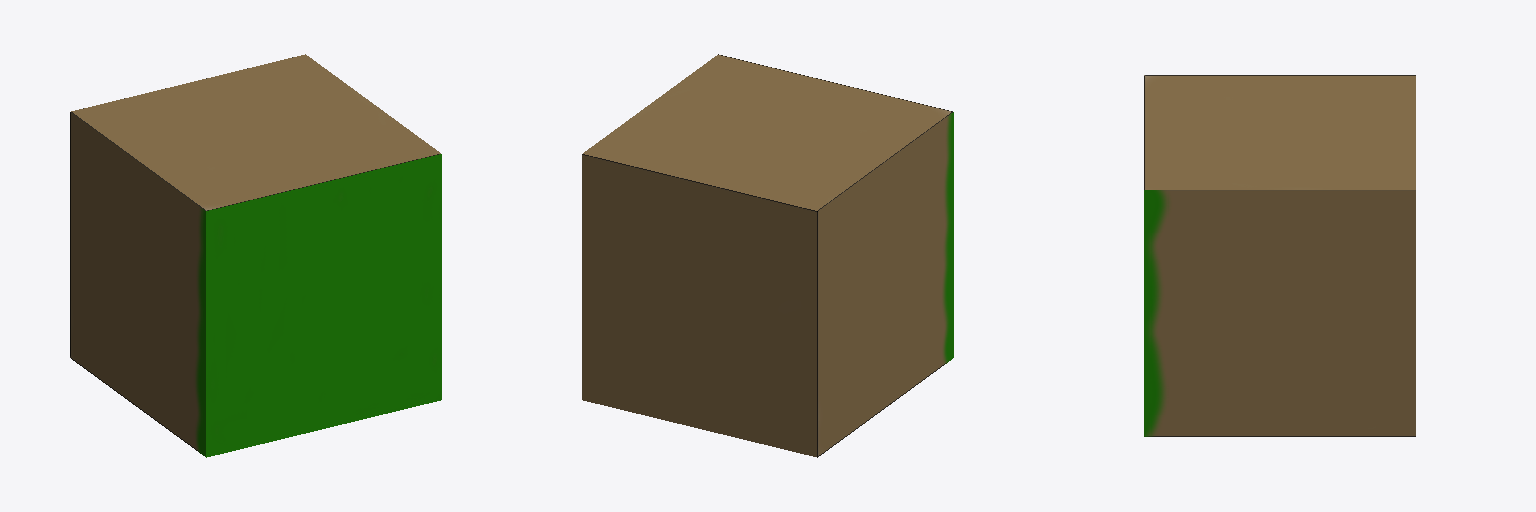
3 views of the same model, side by side, from view 1: azimuth 30°, elevation 25°; view 2: azimuth 150°, elevation 25°; view 3: azimuth 270°, elevation 25° (orthographic).
Parts seen in each view (by area): view 1: Cube; view 2: Cube; view 3: Cube.
Part boxes in pixels (left/top/right/bottom): Cube: left=70, top=54, right=441, bottom=457; Cube: left=582, top=54, right=953, bottom=457; Cube: left=1144, top=75, right=1415, bottom=436.
Size of the model in its own units: 2 by 2 by 2.
Materials: 1 (1 with a texture image).